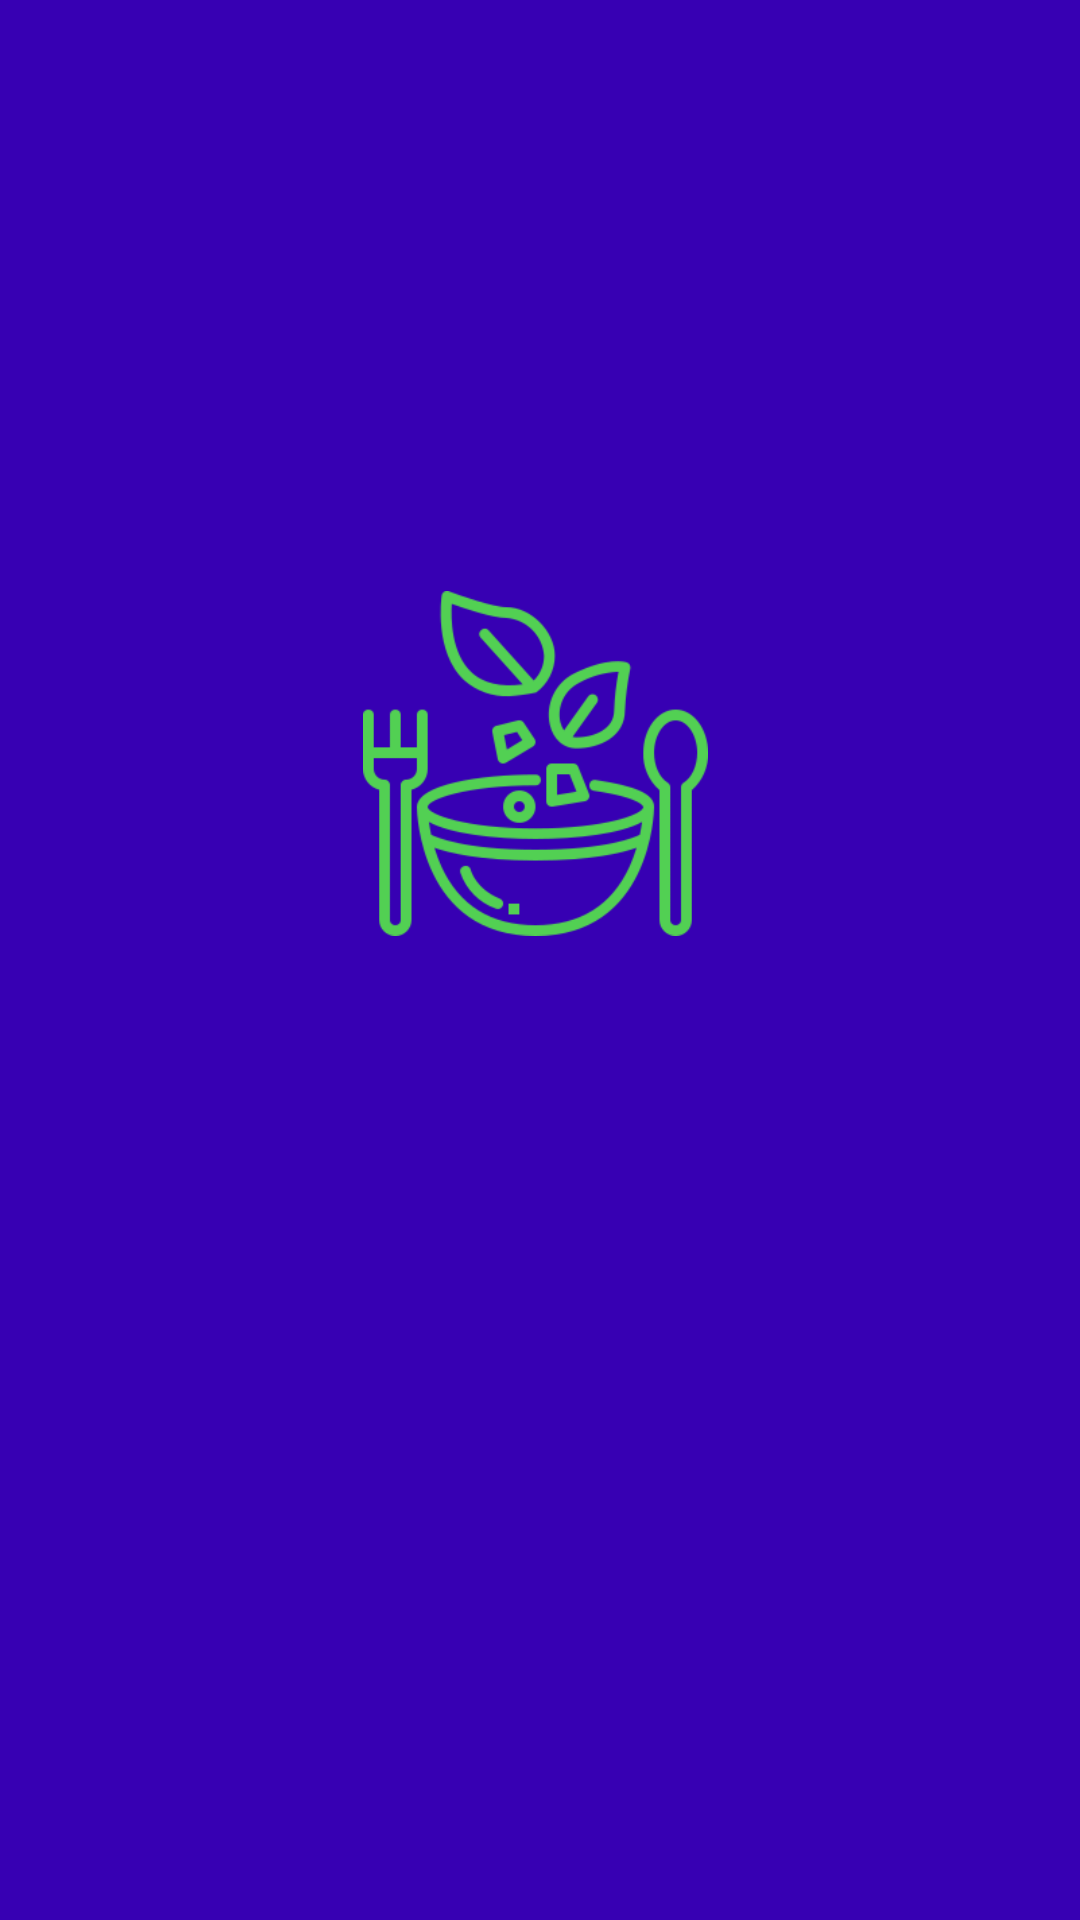

Icons on this 1080*1920 Android screen, each with the point to tap as [x,y]:
food: [535,763]
